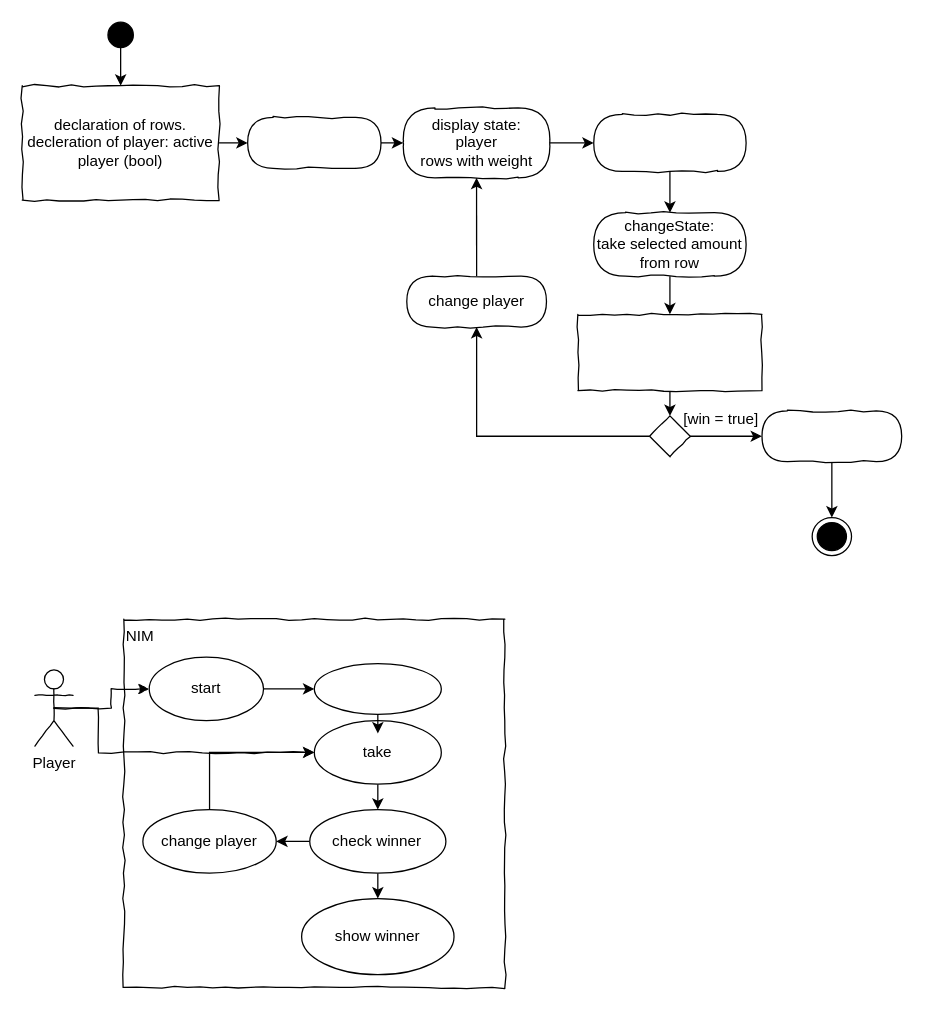
This 925x1010 diagram has some shape labels left out. The centre of each missing label's shape, as x and y in pixels:
display winner: pixel 831 436
prompts: select row select amount: pixel 669 142
promt: fill rows: pixel 313 142
select numbers: pixel 377 688
win = check Win(): pixel 669 352
